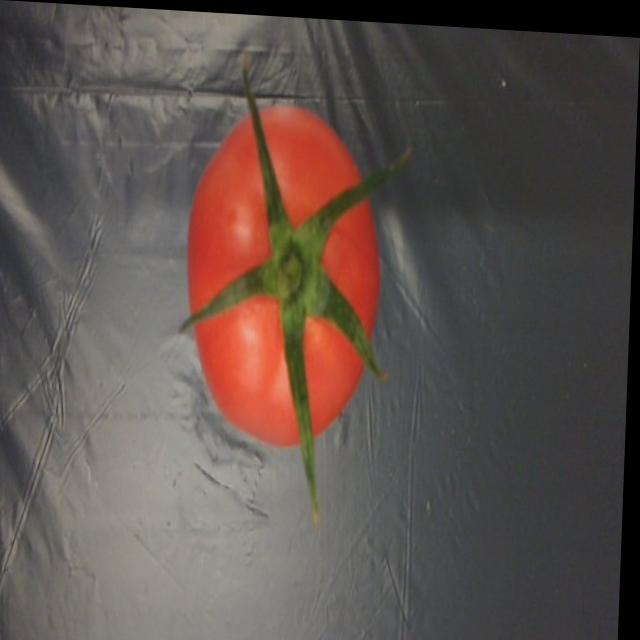kirmizi: (180, 79, 395, 447)
